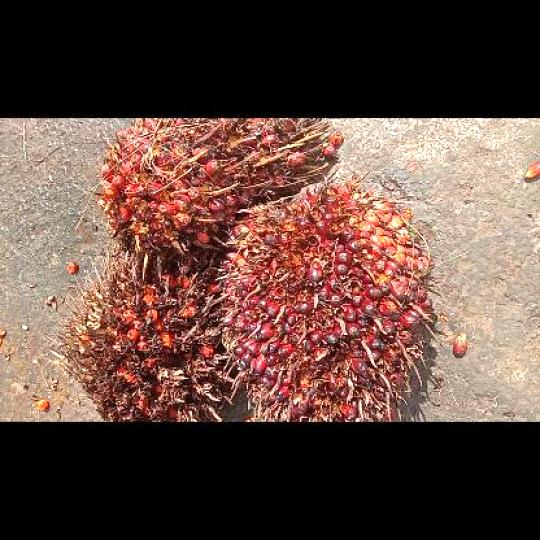masak: (209, 177, 436, 420), (98, 118, 334, 277)
terlalu masak: (51, 246, 240, 420)
